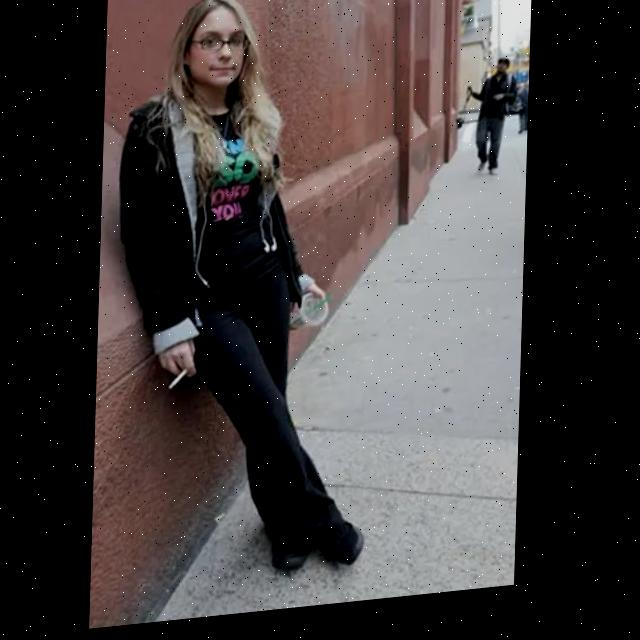cigarette: (171, 373, 188, 392)
